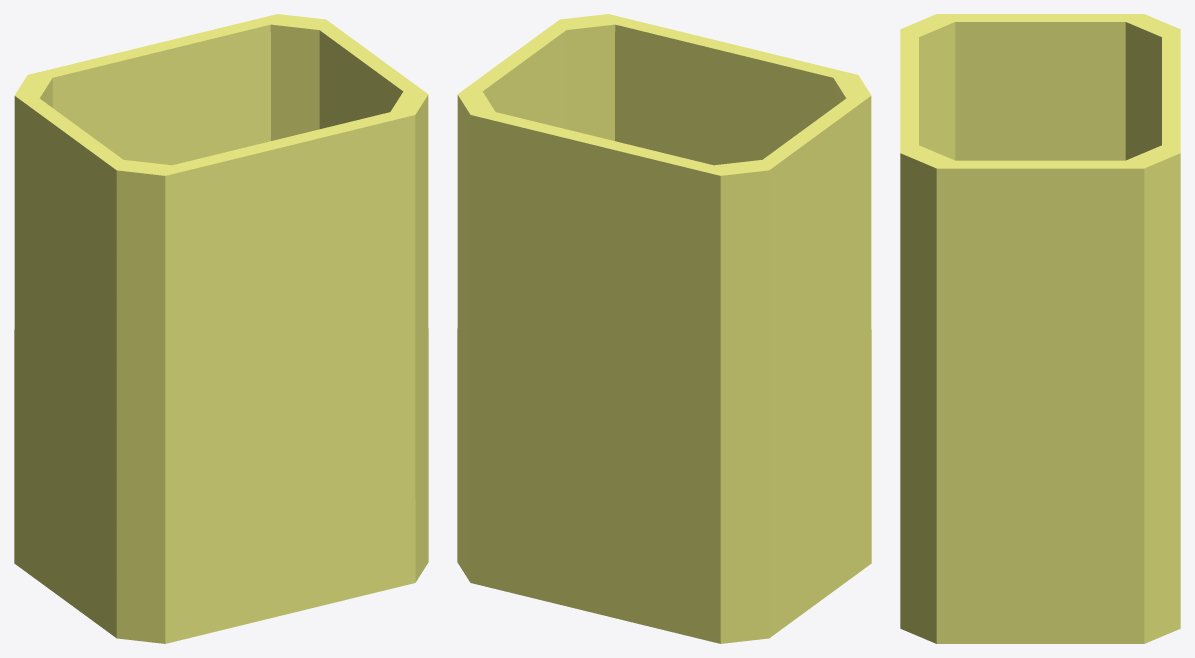
3 views of the same model, side by side, from view 1: azimuth 30°, elevation 25°; view 2: azimuth 150°, elevation 25°; view 3: azimuth 270°, elevation 25° (orthographic).
Visible parts, largest first — view 1: Cube.001; view 2: Cube.001; view 3: Cube.001.
Part boxes in pixels (<box>): Cube.001: <box>14,14,428,643</box>; Cube.001: <box>457,14,871,643</box>; Cube.001: <box>900,14,1180,643</box>.
Size of what is drawn, in the model's own units: 353 by 506 by 270.
